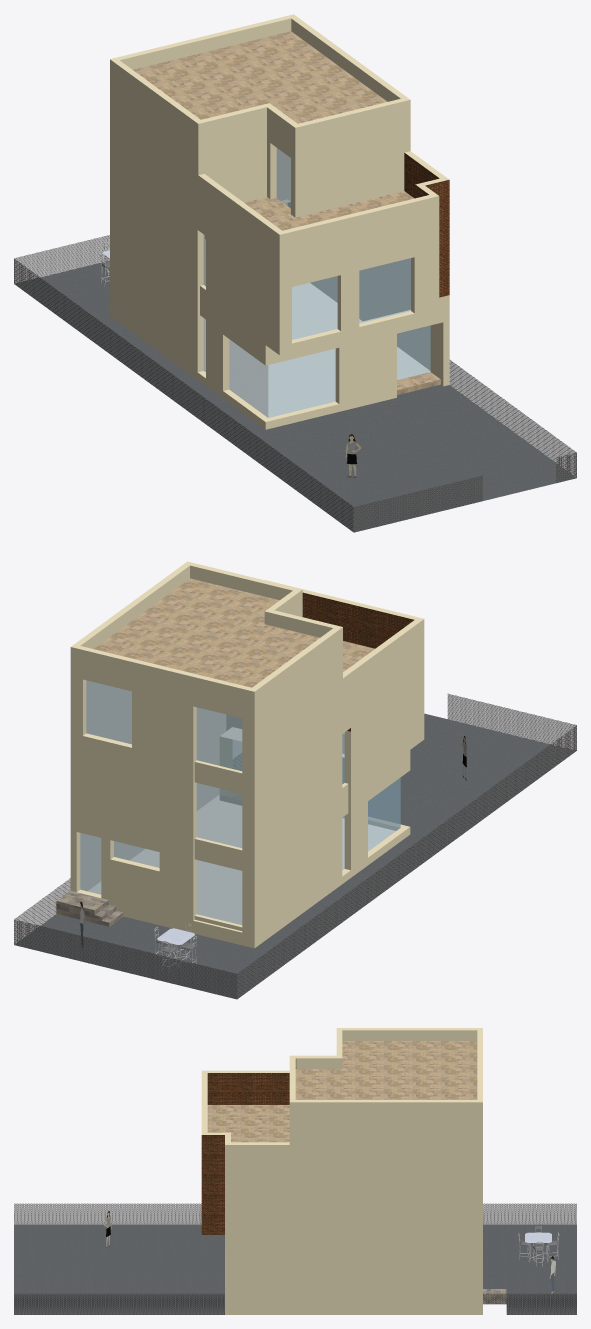
The picture shows the model from 3 angles, top to bottom: view 1: azimuth 30°, elevation 25°; view 2: azimuth 150°, elevation 25°; view 3: azimuth 270°, elevation 25°; orthographic projection. The views are drawn at different scales.
Parts seen in each view (by area): view 1: Root Node; view 2: Root Node; view 3: Root Node.
Part boxes in pixels (x1,y1,x2,y2): Root Node: (14,14,576,532); Root Node: (14,561,576,999); Root Node: (14,1028,576,1314).
Size of the model in its own units: 9.1 by 10.01 by 24.
592 materials, 58 textured.
